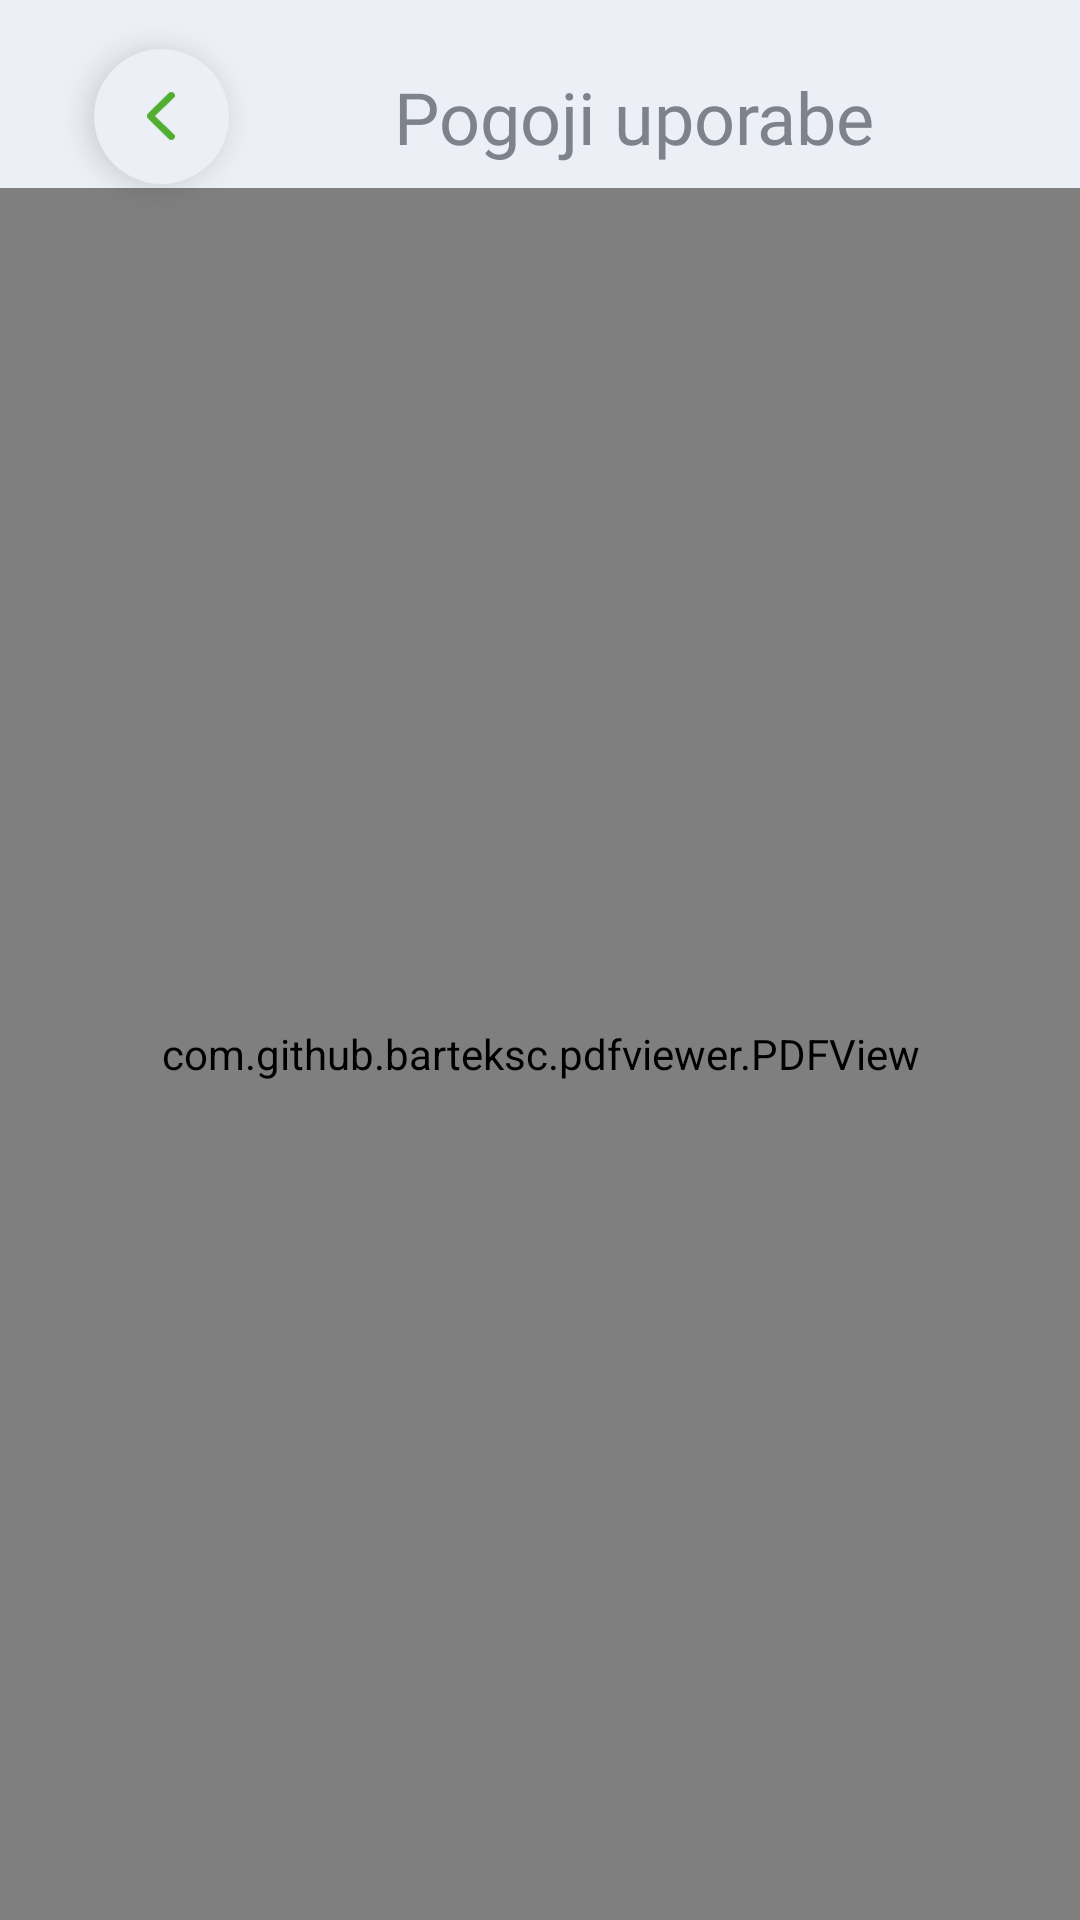

Screen size 1080px×1920px. Icon name, then its box in pixels as bbox=(x1, y1, x2, y2):
back: bbox=(147, 92, 175, 140)
